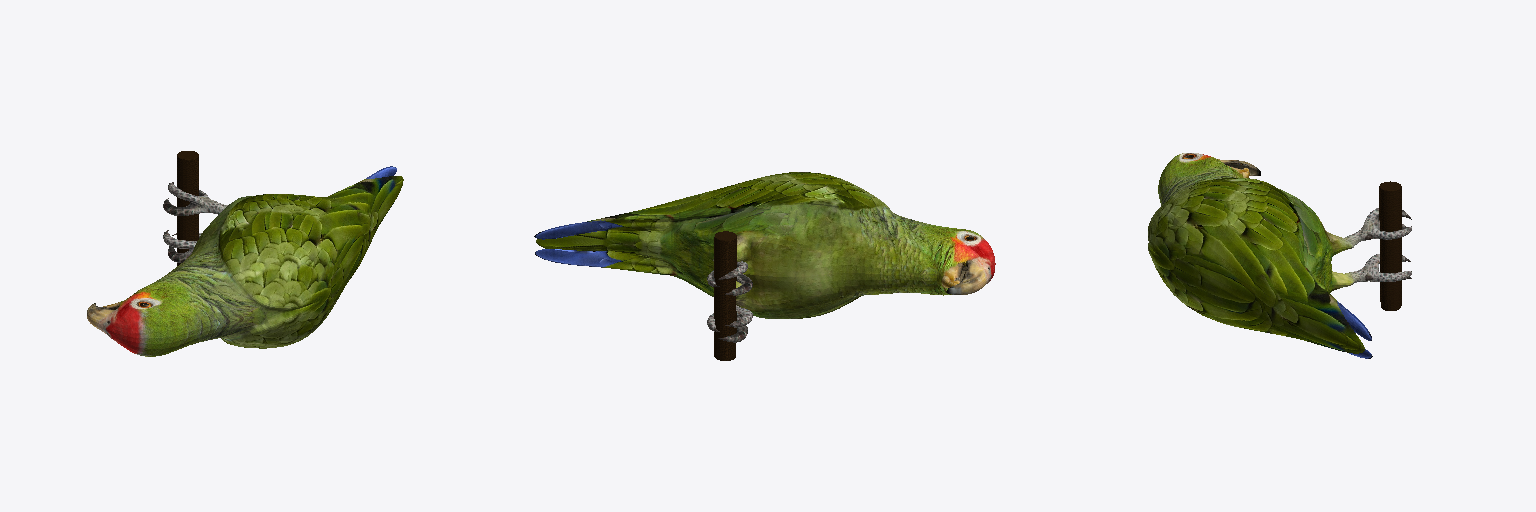
3 renders of one model, left to right at view 1: azimuth 30°, elevation 25°; view 2: azimuth 150°, elevation 25°; view 3: azimuth 270°, elevation 25°, orthographic.
Visible parts, largest first — view 1: amazon_parrot, wood; view 2: amazon_parrot, wood; view 3: amazon_parrot, wood.
Part boxes in pixels (bbox=[...]): amazon_parrot: bbox=[87, 166, 403, 356]; wood: bbox=[177, 151, 198, 265]; amazon_parrot: bbox=[534, 172, 995, 342]; wood: bbox=[714, 231, 736, 360]; amazon_parrot: bbox=[1148, 153, 1411, 358]; wood: bbox=[1379, 181, 1401, 310].
Size of the model in its own units: 31.36 by 10.06 by 18.91.
Materials: 2 (2 with a texture image).